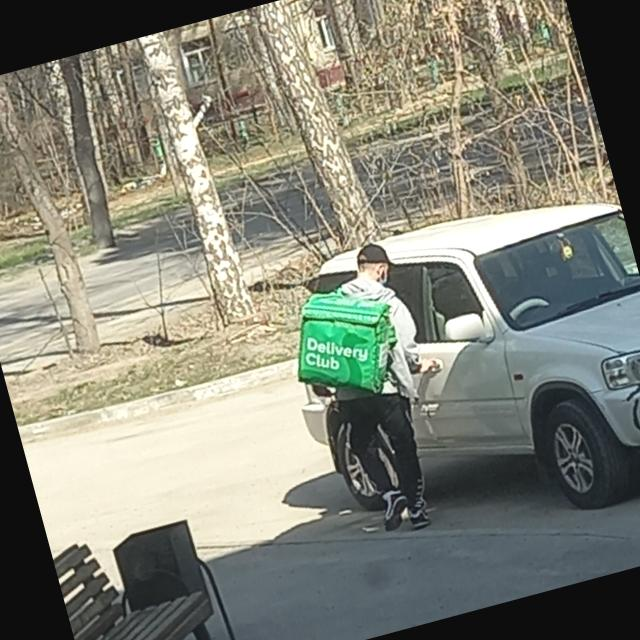person: (288, 232, 482, 542)
